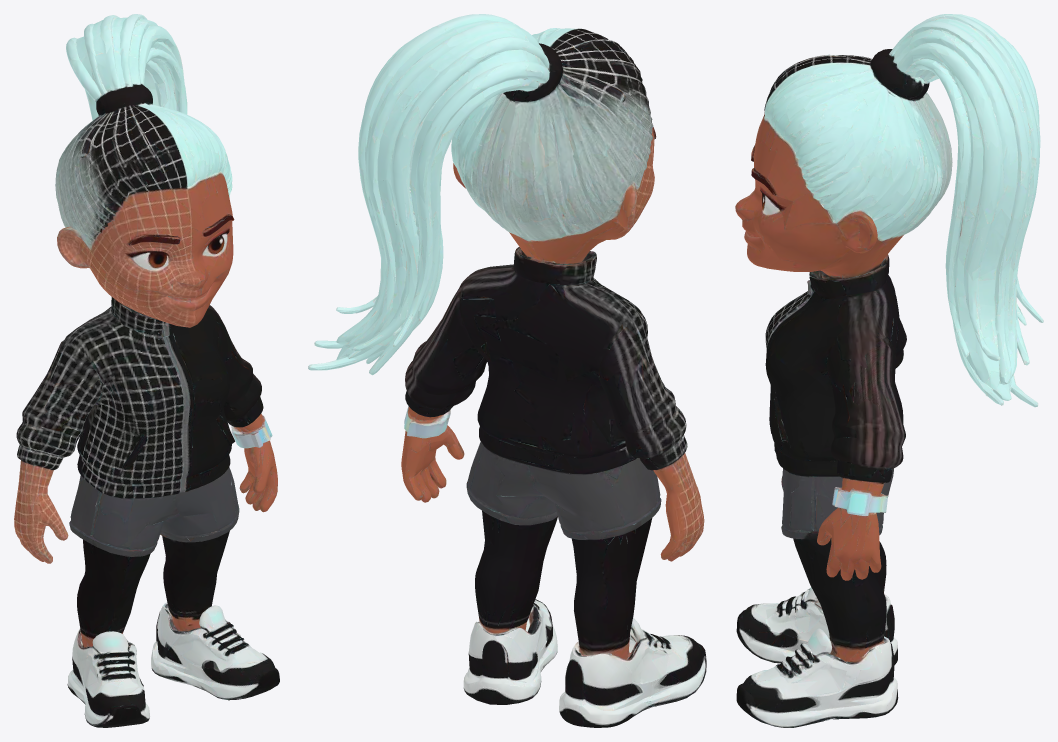
The model's file is mira.glb.
The picture shows the model from 3 angles, left to right: view 1: azimuth 30°, elevation 25°; view 2: azimuth 150°, elevation 25°; view 3: azimuth 270°, elevation 25°; orthographic projection. The views are drawn at different scales.
Size of the model in its own units: 0.8519 by 1.9 by 0.7883.
1 material, 1 textured.
